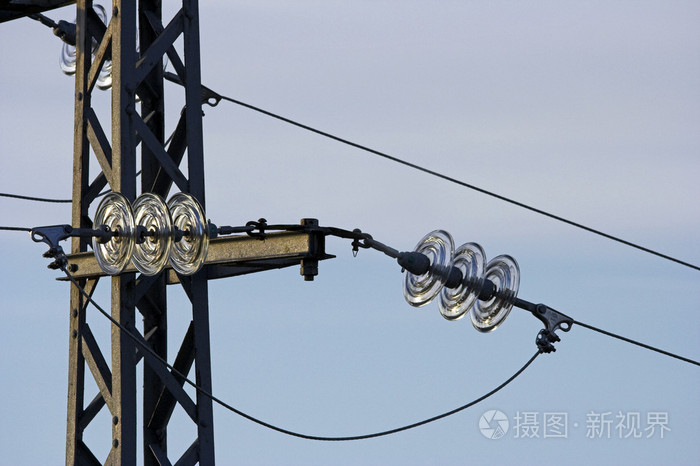insulator: (402, 228, 522, 334), (91, 192, 208, 280), (64, 6, 121, 93)
